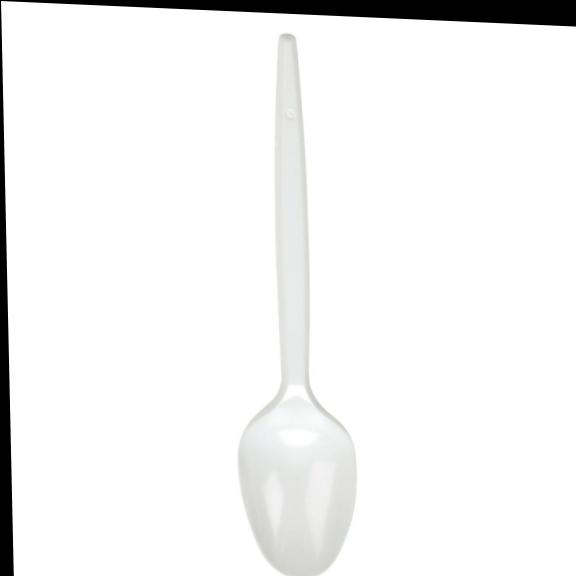Plastik: (238, 34, 355, 575)
